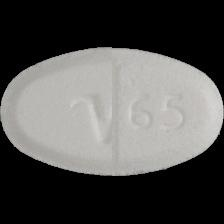66336-834: (0, 0, 224, 224)
